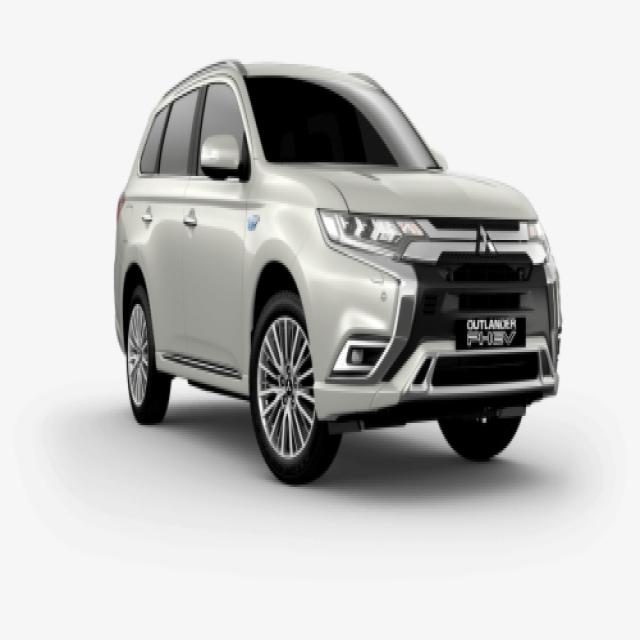light_vehicle: (113, 61, 563, 486)
